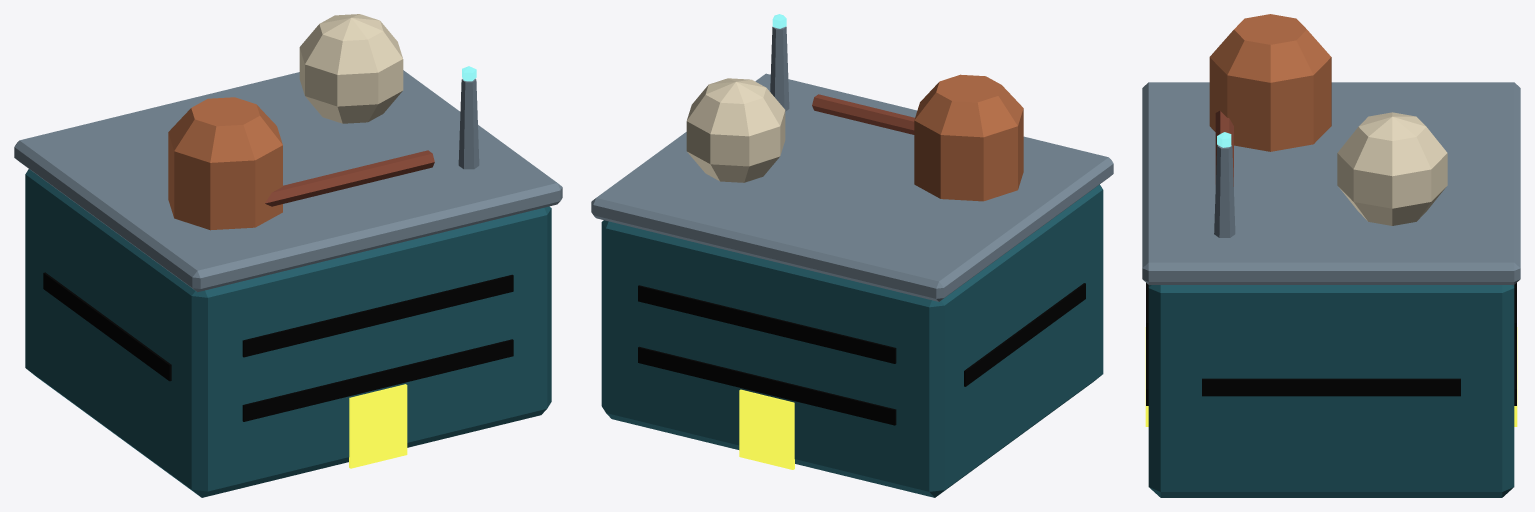
The model's file is City_Block.fbx.
3 renders of one model, left to right at view 1: azimuth 30°, elevation 25°; view 2: azimuth 150°, elevation 25°; view 3: azimuth 270°, elevation 25°, orthographic. The views are drawn at different scales.
Parts seen in each view (by area): view 1: City_Block; view 2: City_Block; view 3: City_Block.
Part boxes in pixels (box(x1,y1,x2,y2)): City_Block: box(14, 14, 562, 497); City_Block: box(591, 14, 1113, 497); City_Block: box(1142, 14, 1520, 497).
Size of the model in its own units: 14.4 by 12.4 by 12.5.
